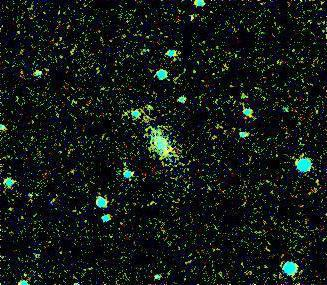star: (151, 138, 181, 168)
